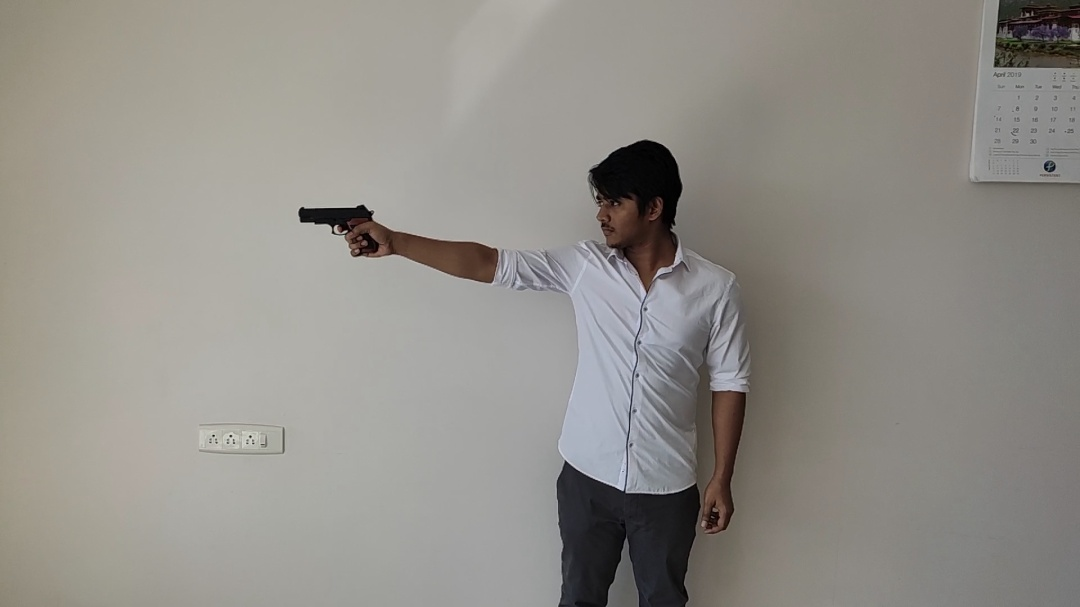gun: (298, 205, 376, 251)
